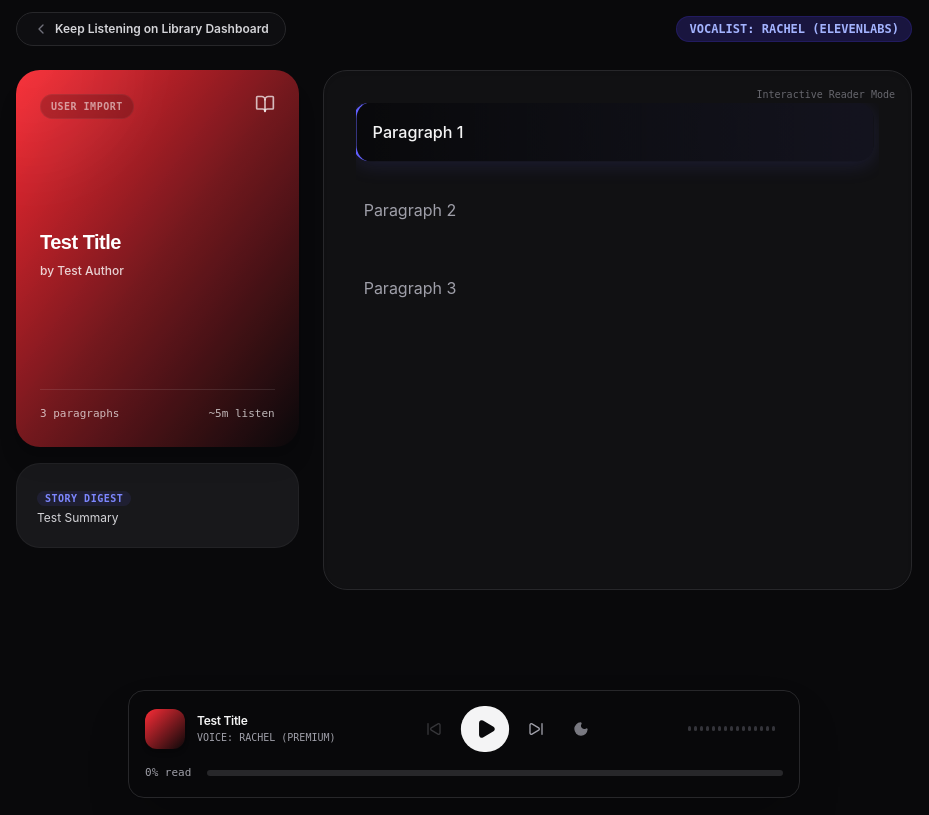
Test: BookDetailView › shows error if elevenlabs voice is selected and key is missing
Step 1. Click the text "Paragraph 1" → (613,132), box x1=353 y1=103 x2=874 y2=161
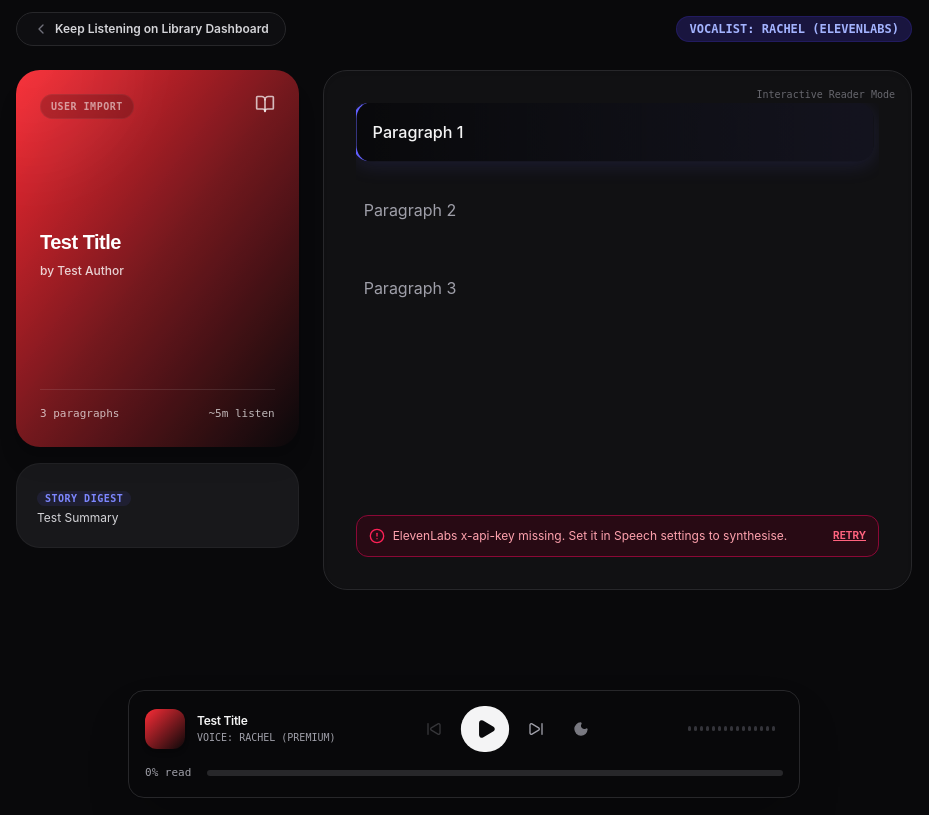
Check: the text "ElevenLabs x-api-key missing" is shown, box x1=393 y1=528 x2=787 y2=543
